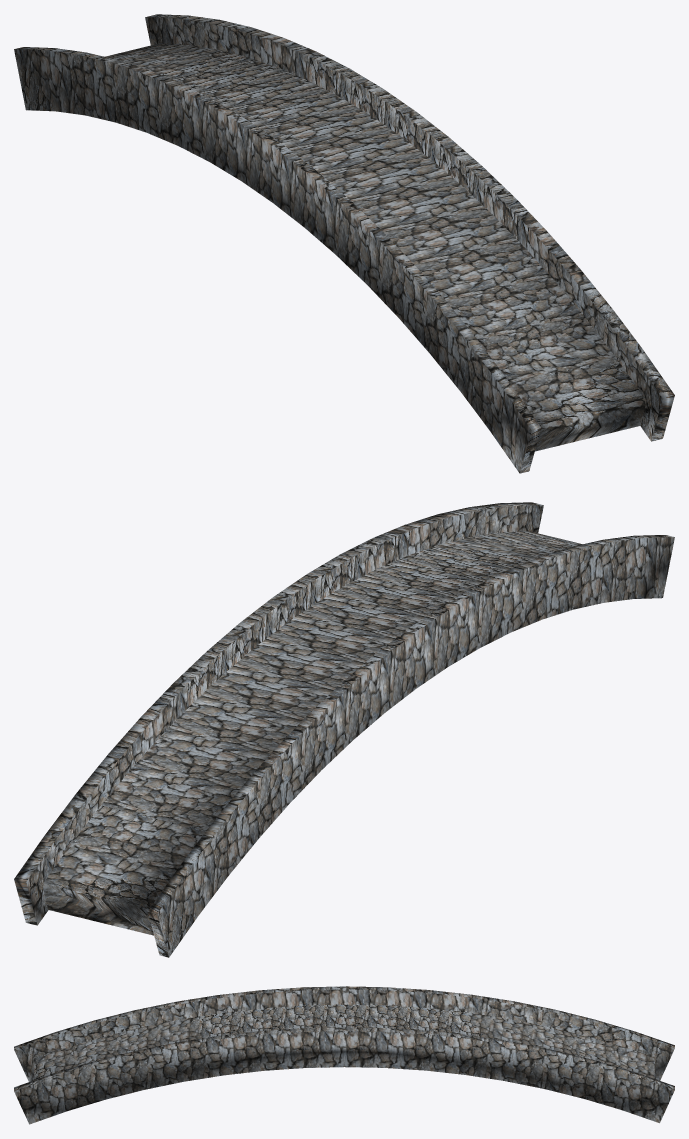
The model's file is Bridge.obj.
3 renders of one model, top to bottom at view 1: azimuth 30°, elevation 25°; view 2: azimuth 150°, elevation 25°; view 3: azimuth 270°, elevation 25°, orthographic. The views are drawn at different scales.
Visible parts, largest first — view 1: Cube; view 2: Cube; view 3: Cube.
Boxes of the visible parts, x1,y1,x2,y2 form: Cube: [14, 14, 674, 473]; Cube: [14, 502, 674, 957]; Cube: [14, 986, 674, 1124].
Bounding box in the file's own units: 2 × 1.96 × 12.52.
